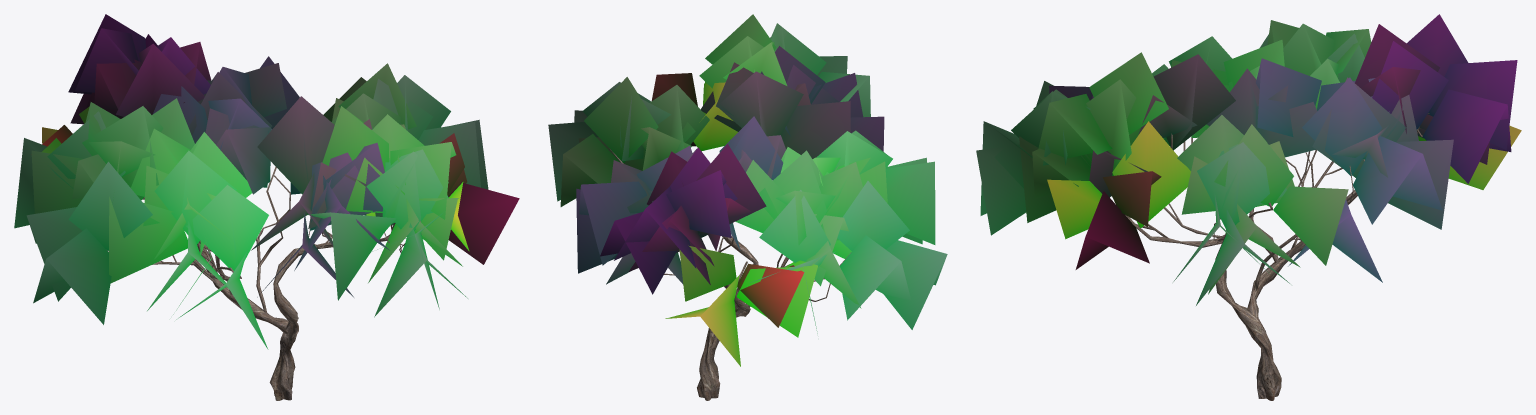
File: BigCherryBlossom.fbx
3 renders of one model, left to right at view 1: azimuth 30°, elevation 25°; view 2: azimuth 150°, elevation 25°; view 3: azimuth 270°, elevation 25°, orthographic. The views are drawn at different scales.
Visible parts, largest first — view 1: Tree_1, Tree_0; view 2: Tree_1, Tree_0; view 3: Tree_1, Tree_0.
Boxes of the visible parts, <box> form: Tree_1: <box>14,14,519,349</box>; Tree_0: <box>107,166,421,400</box>; Tree_1: <box>548,14,947,366</box>; Tree_0: <box>609,148,851,400</box>; Tree_1: <box>976,14,1521,305</box>; Tree_0: <box>1125,113,1429,400</box>.
Size of the model in its own units: 420 by 314 by 453.
